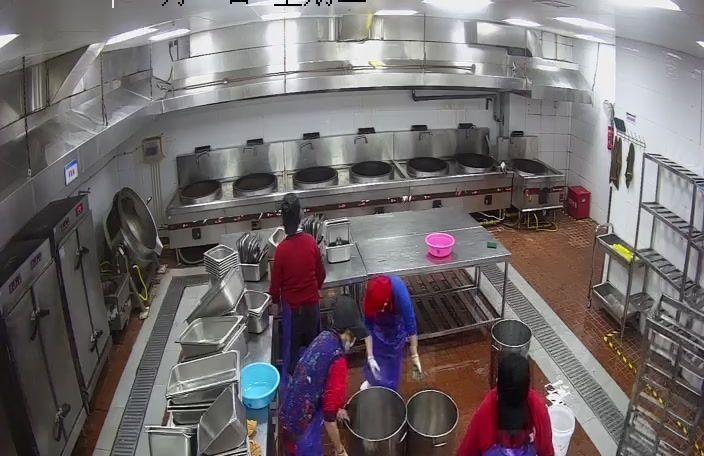apron: (363, 349, 397, 387), (408, 346, 436, 382), (336, 405, 361, 430)
gloves: (276, 193, 304, 226)
mask: (334, 329, 366, 352)
